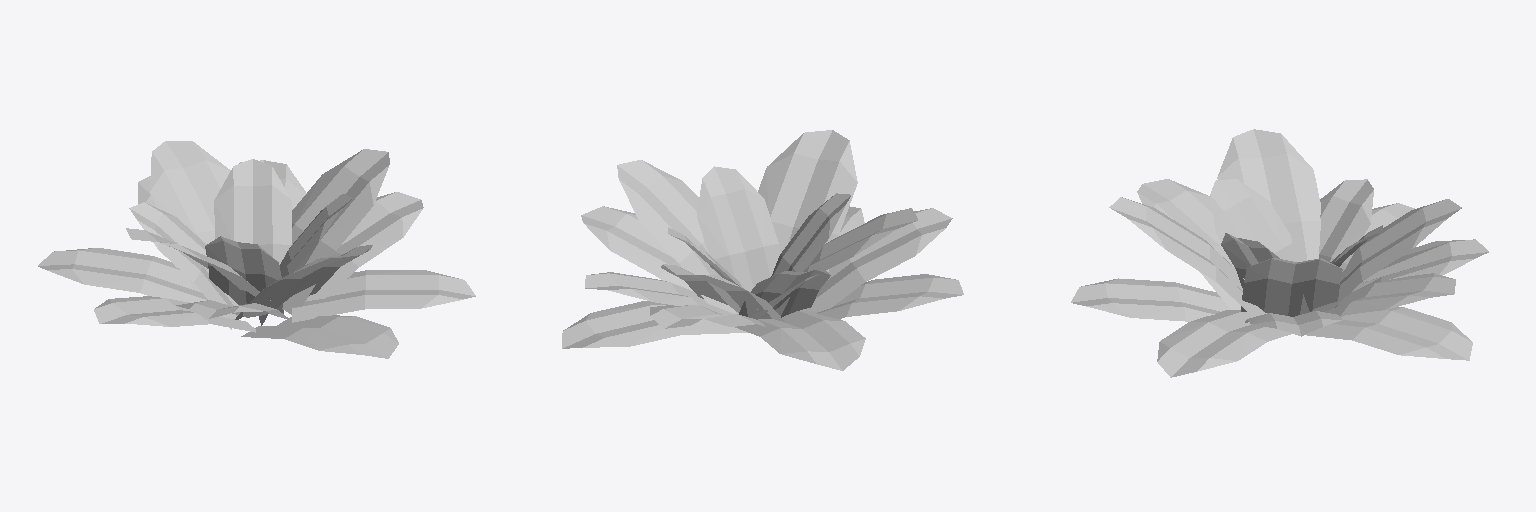
The model's file is fern.obj.
3 renders of one model, left to right at view 1: azimuth 30°, elevation 25°; view 2: azimuth 150°, elevation 25°; view 3: azimuth 270°, elevation 25°, orthographic.
Parts seen in each view (by area): view 1: fern_retopo_group4 polySurface30 polySurface17 polySurface13 pol; view 2: fern_retopo_group4 polySurface30 polySurface17 polySurface13 pol; view 3: fern_retopo_group4 polySurface30 polySurface17 polySurface13 pol.
Part boxes in pixels (x1,y1,x2,y2): fern_retopo_group4 polySurface30 polySurface17 polySurface13 pol: (38,141,475,358); fern_retopo_group4 polySurface30 polySurface17 polySurface13 pol: (562,130,963,370); fern_retopo_group4 polySurface30 polySurface17 polySurface13 pol: (1071,129,1488,377).
Size of the model in its own units: 9.24 by 3.15 by 9.51.